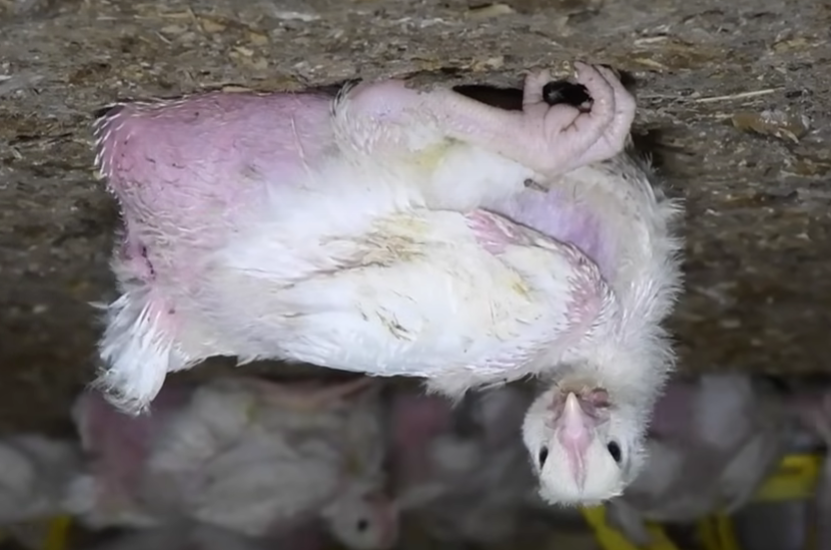Unhealthy: (81, 34, 729, 516)
